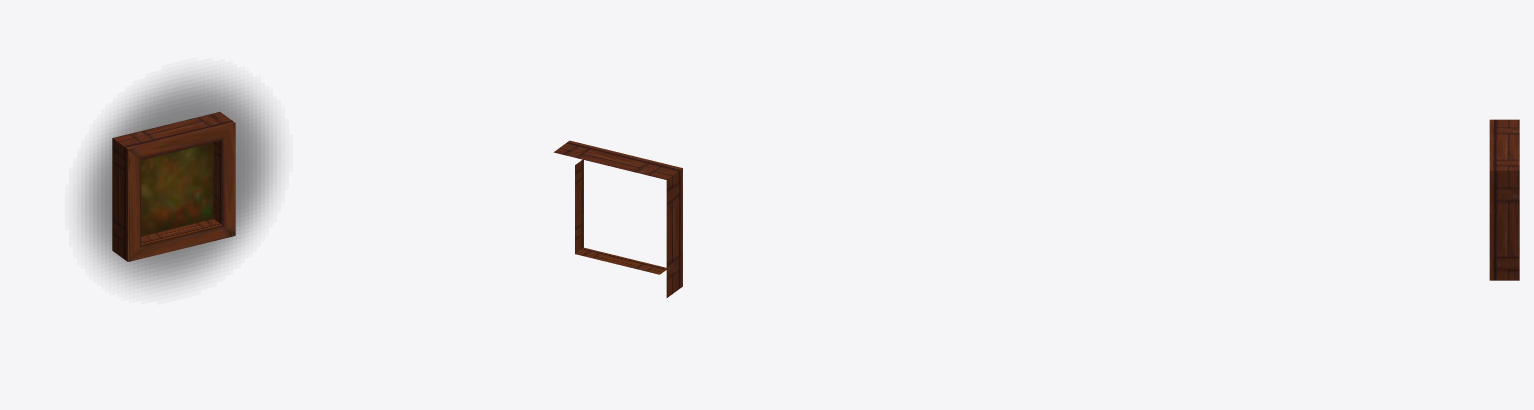
File: prop_snow_tree_small_woodbox_ul.glb
3 views of the same model, side by side, from view 1: azimuth 30°, elevation 25°; view 2: azimuth 150°, elevation 25°; view 3: azimuth 270°, elevation 25° (orthographic). The views are drawn at different scales.
Visible parts, largest first — view 1: shadow_snow_tree_small_woodbox_ul, tree_planter_box3_2; view 2: tree_planter_box3_2; view 3: tree_planter_box3_2.
Boxes of the visible parts, x1,y1,x2,y2 form: shadow_snow_tree_small_woodbox_ul: (81,74,276,288); tree_planter_box3_2: (112,112,235,261); tree_planter_box3_2: (553,140,682,297); tree_planter_box3_2: (1489,119,1519,280).
Bounding box in the file's own units: 13.99 × 12.32 × 23.14.
Materials: 5 (5 with a texture image).
